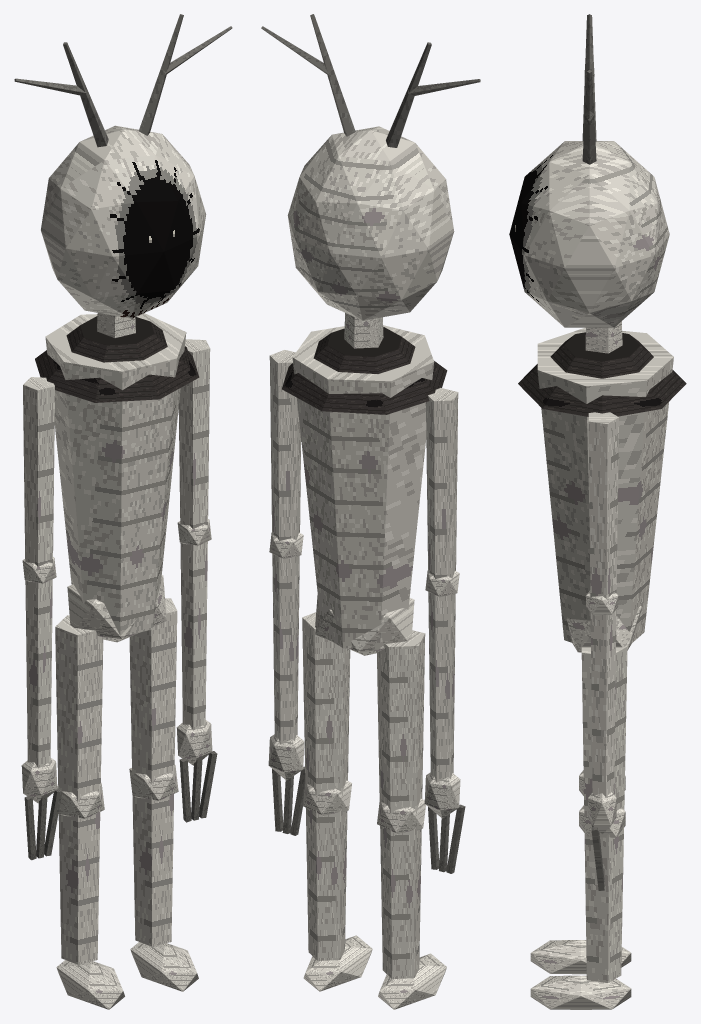
File: hollow-watcher.glb
3 renders of one model, left to right at view 1: azimuth 30°, elevation 25°; view 2: azimuth 150°, elevation 25°; view 3: azimuth 270°, elevation 25°, orthographic.
Parts seen in each view (by area): view 1: torso, head, leg-left, leg-right, arm-left, arm-right; view 2: torso, head, leg-left, leg-right, arm-left, arm-right; view 3: torso, head, leg-right, arm-right, leg-left.
Part boxes in pixels (x1=…): torso: x1=35, y1=313, x2=199, y2=642; head: x1=14, y1=14, x2=232, y2=318; leg-left: x1=55, y1=615, x2=124, y2=1009; leg-right: x1=129, y1=598, x2=198, y2=991; arm-left: x1=21, y1=377, x2=62, y2=860; arm-right: x1=176, y1=339, x2=217, y2=822; torso: x1=282, y1=313, x2=447, y2=655; head: x1=261, y1=14, x2=480, y2=320; leg-left: x1=377, y1=630, x2=446, y2=1009; leg-right: x1=302, y1=612, x2=372, y2=991; arm-left: x1=424, y1=388, x2=465, y2=873; arm-right: x1=268, y1=350, x2=305, y2=835; torso: x1=518, y1=321, x2=686, y2=652; head: x1=509, y1=14, x2=669, y2=327; leg-right: x1=530, y1=646, x2=631, y2=1009; arm-right: x1=586, y1=412, x2=618, y2=890; leg-left: x1=530, y1=770, x2=631, y2=974.
Size of the model in its own units: 0.5893 by 2.48 by 0.42.
1 material, 1 textured.
